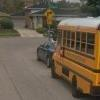Bus: (50, 15, 100, 100)
